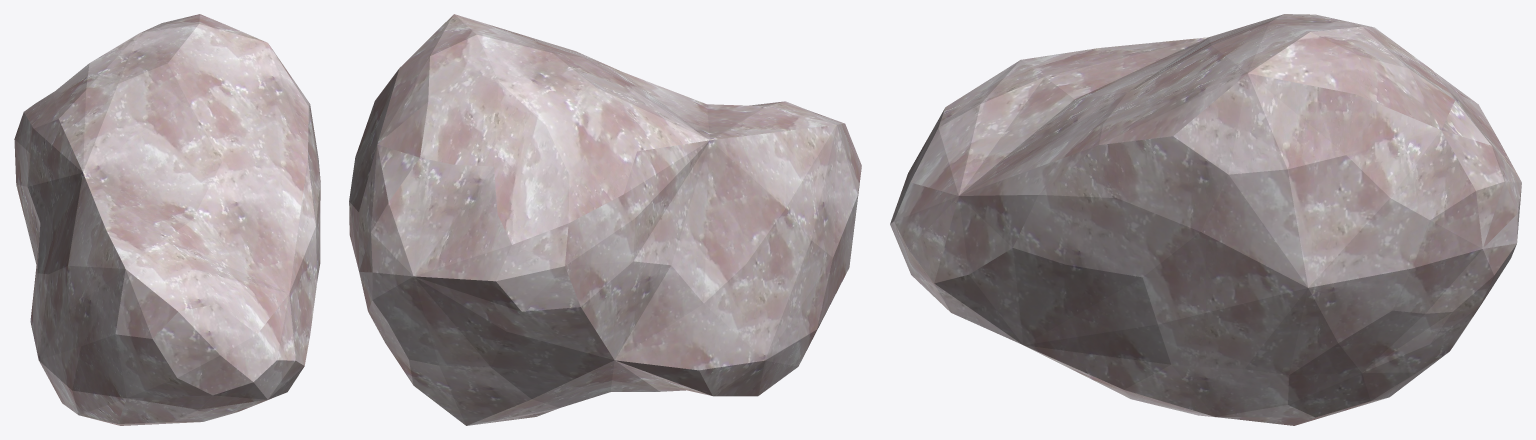
Rendered from SALZ_NUGGET.glb.
3 renders of one model, left to right at view 1: azimuth 30°, elevation 25°; view 2: azimuth 150°, elevation 25°; view 3: azimuth 270°, elevation 25°, orthographic. The views are drawn at different scales.
Visible parts, largest first — view 1: SALZ_NUGGET; view 2: SALZ_NUGGET; view 3: SALZ_NUGGET.
Boxes of the visible parts, x1,y1,x2,y2 form: SALZ_NUGGET: [14, 14, 320, 425]; SALZ_NUGGET: [349, 14, 861, 425]; SALZ_NUGGET: [890, 14, 1521, 425].
Size of the model in its own units: 0.0946 by 0.094 by 0.134.
Materials: 1 (1 with a texture image).
